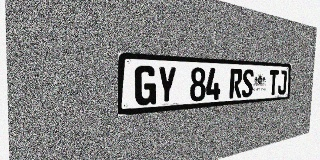4: (206, 68, 221, 100)
8: (189, 67, 206, 102)
G: (134, 65, 157, 106)
J: (277, 70, 287, 95)
R: (229, 68, 242, 99)
S: (241, 69, 254, 98)
T: (268, 70, 279, 95)
Y: (157, 66, 177, 104)
